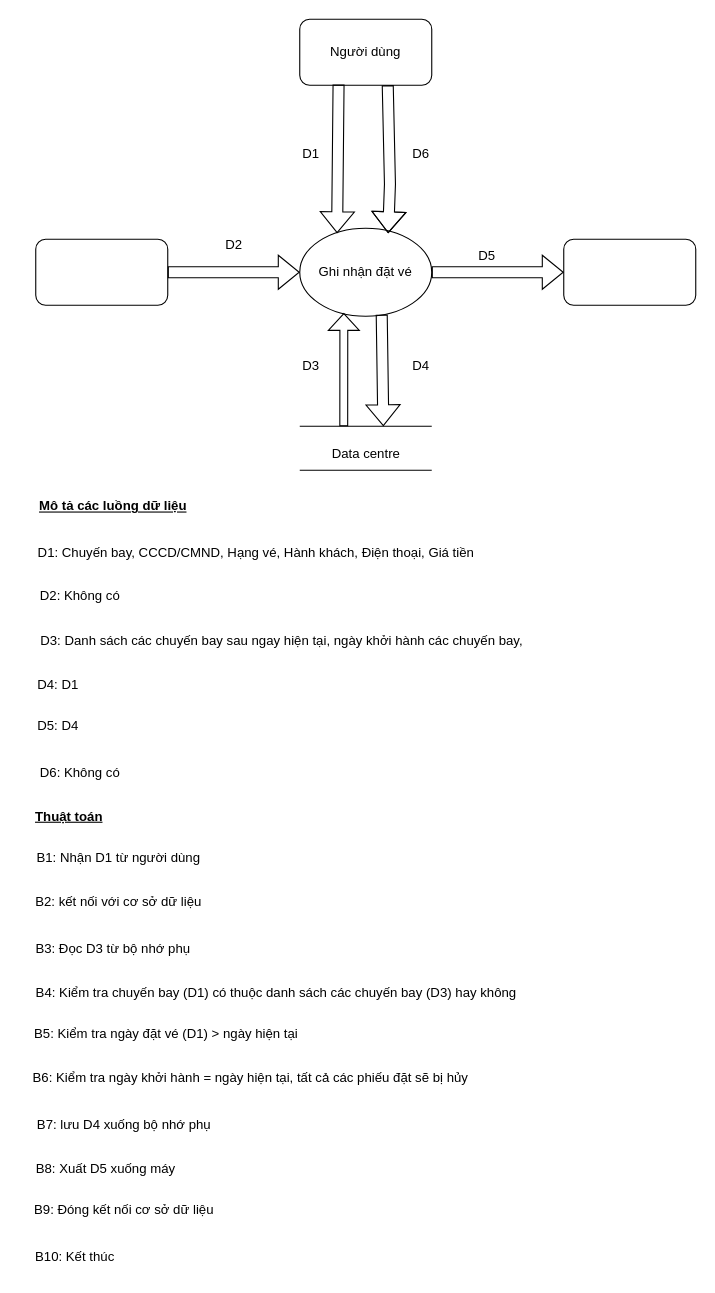
Image size: 715x1293. Some labels were removed from this diagram. Each missing label, with the centre of its shape:
"Thiết bị nhập" belongs at point (101, 271).
"Thiết bị xuất" belongs at point (629, 271).
